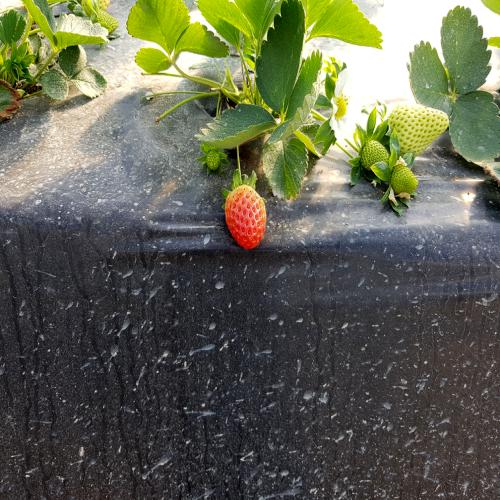ripe: (220, 170, 271, 264)
unripe: (375, 100, 454, 158)
